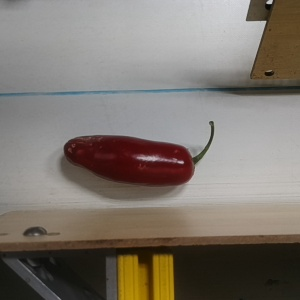Cut Point: (171, 141, 208, 183)
